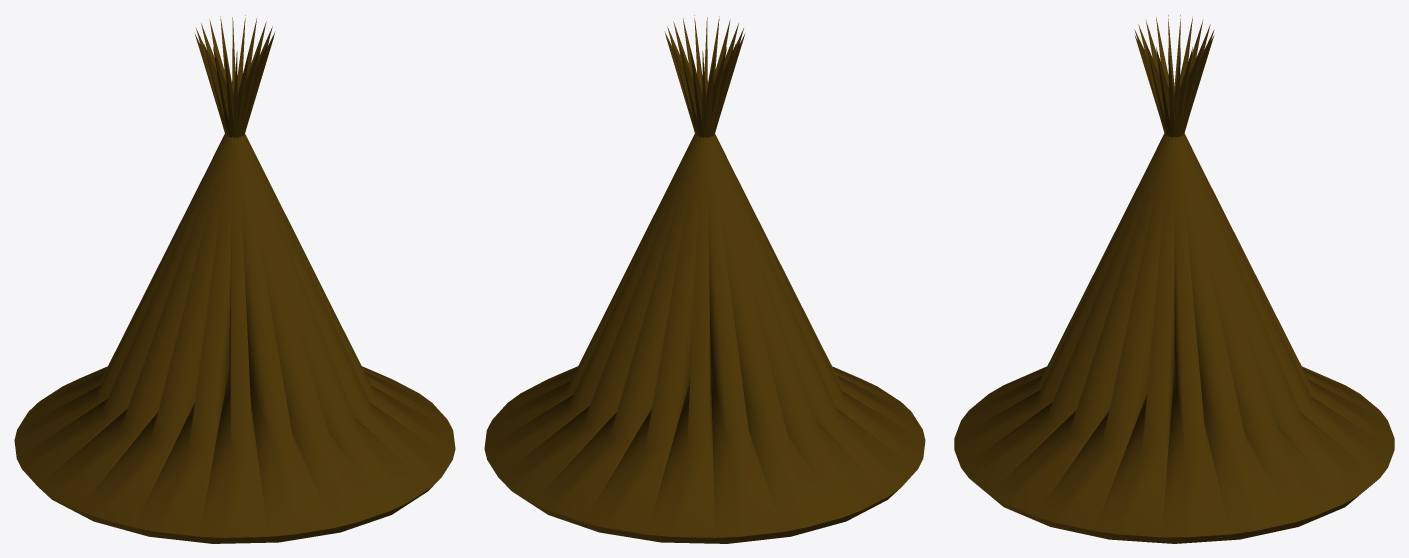
The model's file is ClickTarget.fbx.
The picture shows the model from 3 angles, left to right: view 1: azimuth 30°, elevation 25°; view 2: azimuth 150°, elevation 25°; view 3: azimuth 270°, elevation 25°; orthographic projection.
Parts seen in each view (by area): view 1: pCone1; view 2: pCone1; view 3: pCone1.
Part boxes in pixels (x1,y1,x2,y2): pCone1: (14, 15, 455, 543); pCone1: (484, 15, 925, 543); pCone1: (954, 15, 1394, 543).
Bounding box in the file's own units: 1.93 × 2.05 × 1.93.
